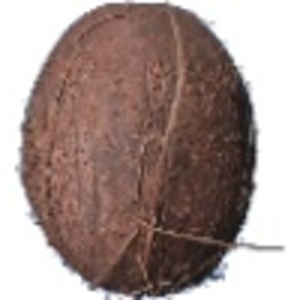coco: (21, 1, 255, 300)
